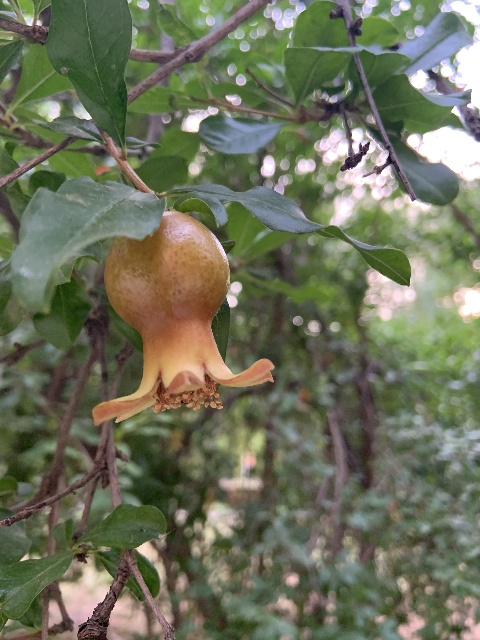early-fruit: (91, 211, 276, 424)
